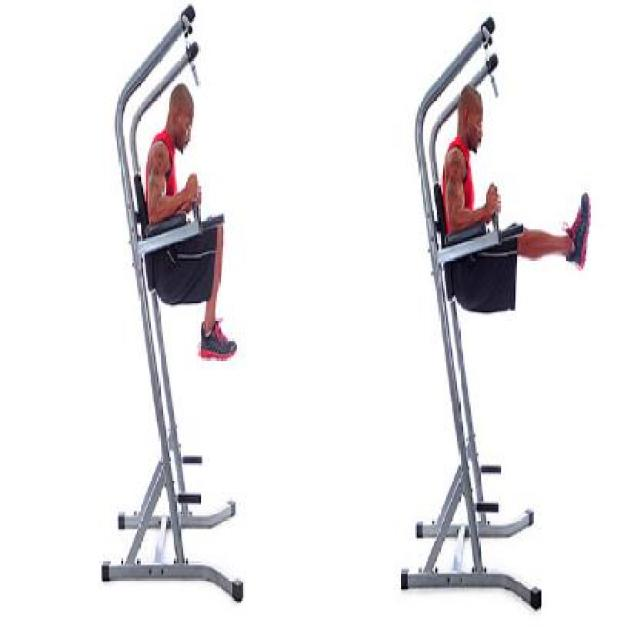chinning dipping: (103, 3, 245, 602)
